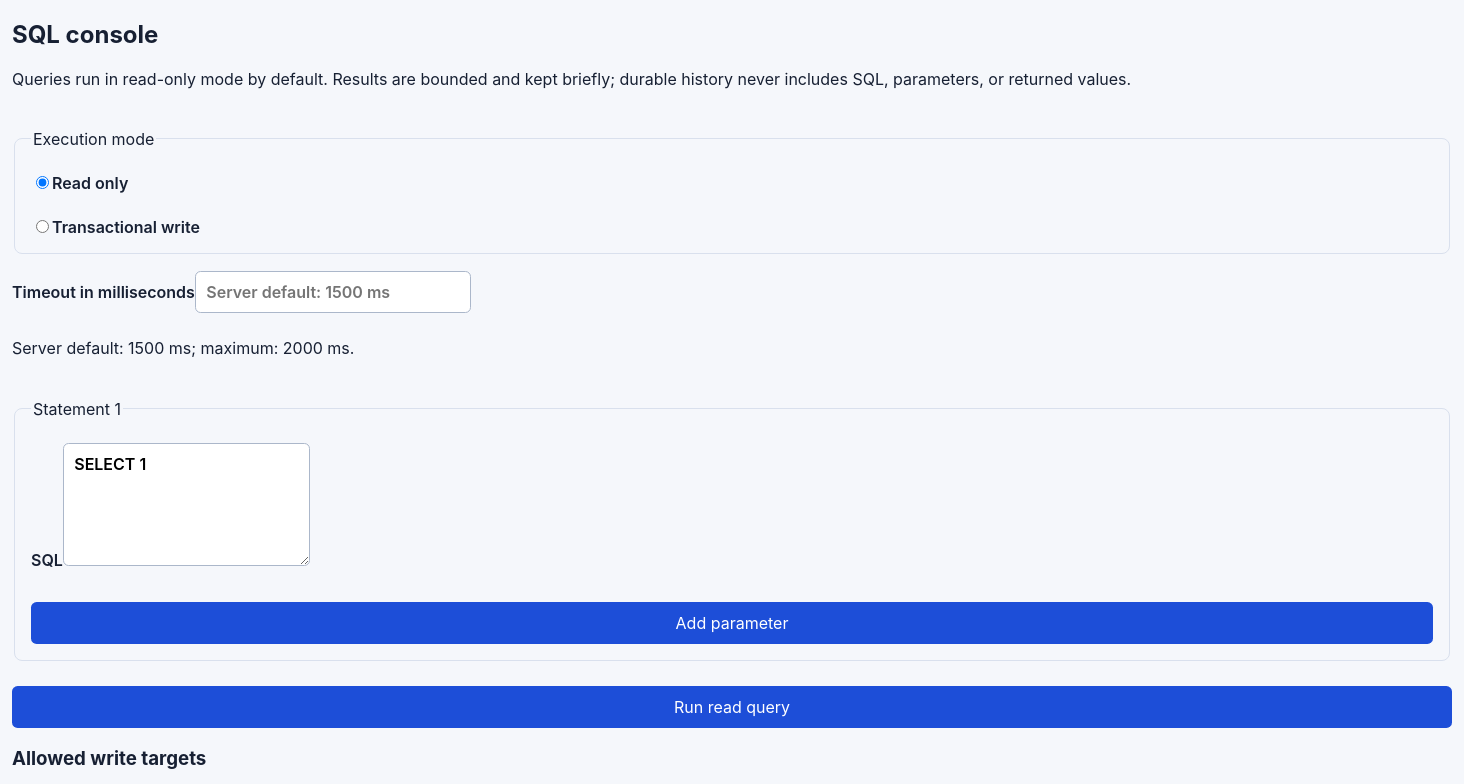
SQL console page › omits an untouched timeout and validates an edited timeout against the server capability
Expected: the text "Server default: 1500 ms; maximum: 2000 ms." is shown, top-left (12, 338), bottom-right (354, 358)
Click the button "Run read query" at (732, 707), box top-left (12, 686), bottom-right (1452, 728)
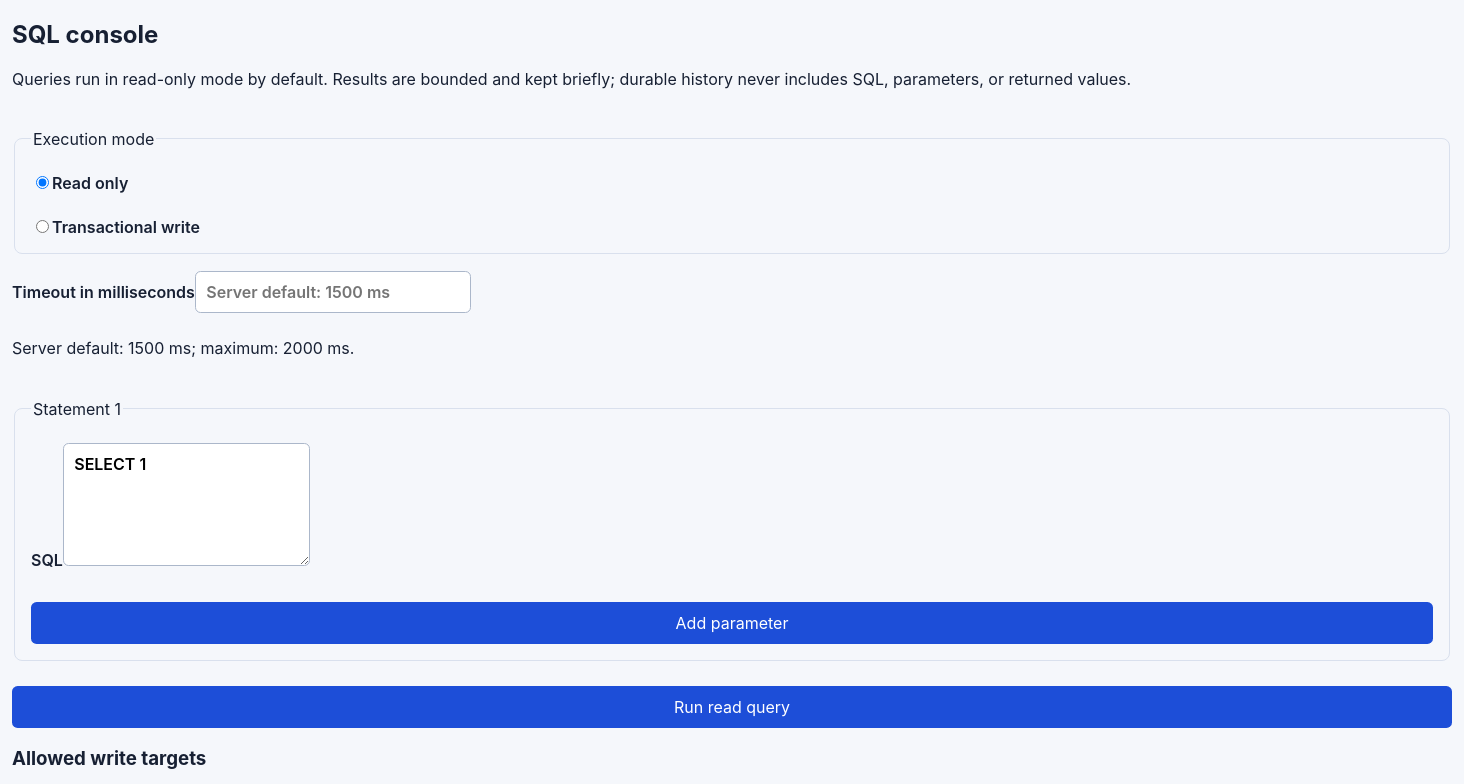
Type "2001" into the field labelled "Timeout in milliseconds" at (333, 292), box top-left (195, 271), bottom-right (471, 313)
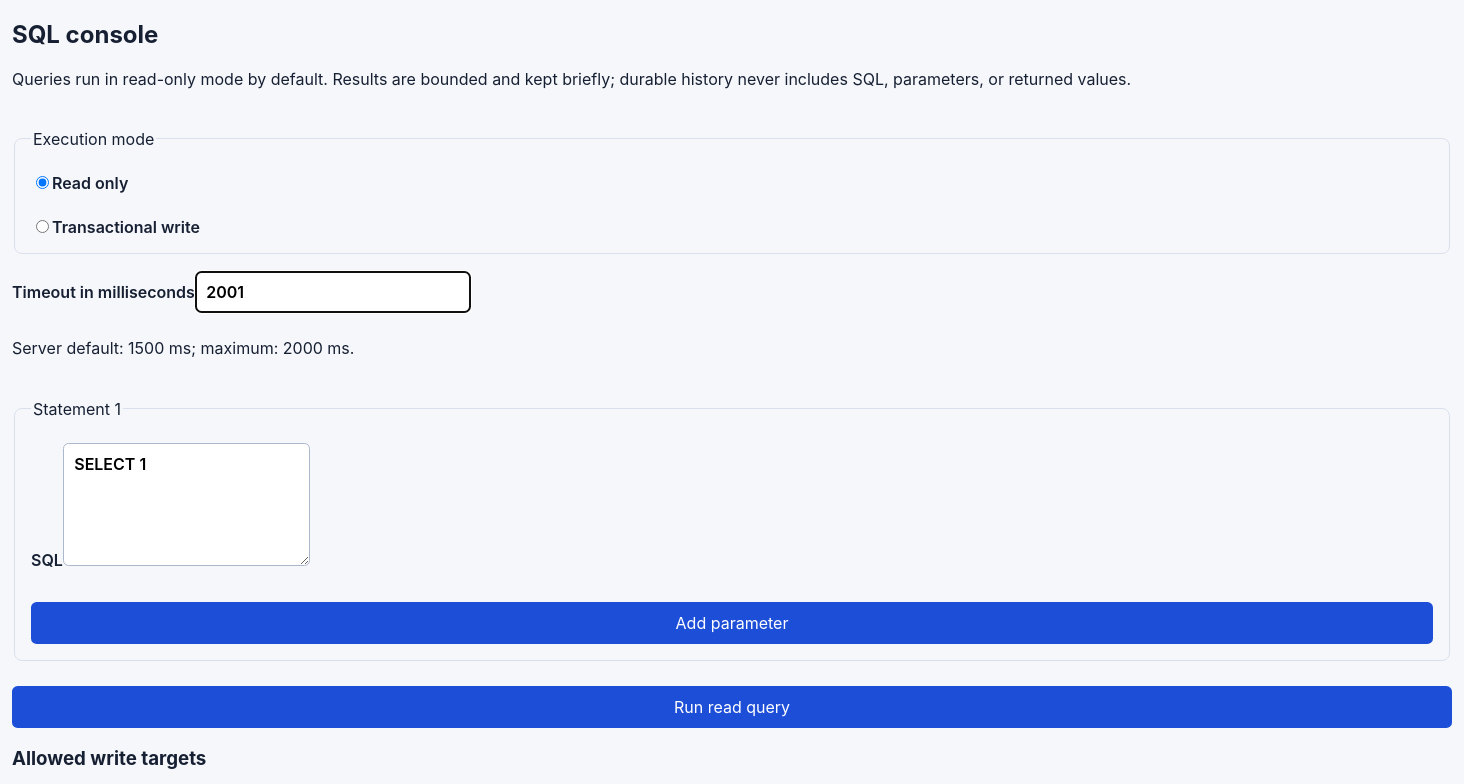
Click the button "Run read query" at (732, 707), box top-left (12, 686), bottom-right (1452, 728)
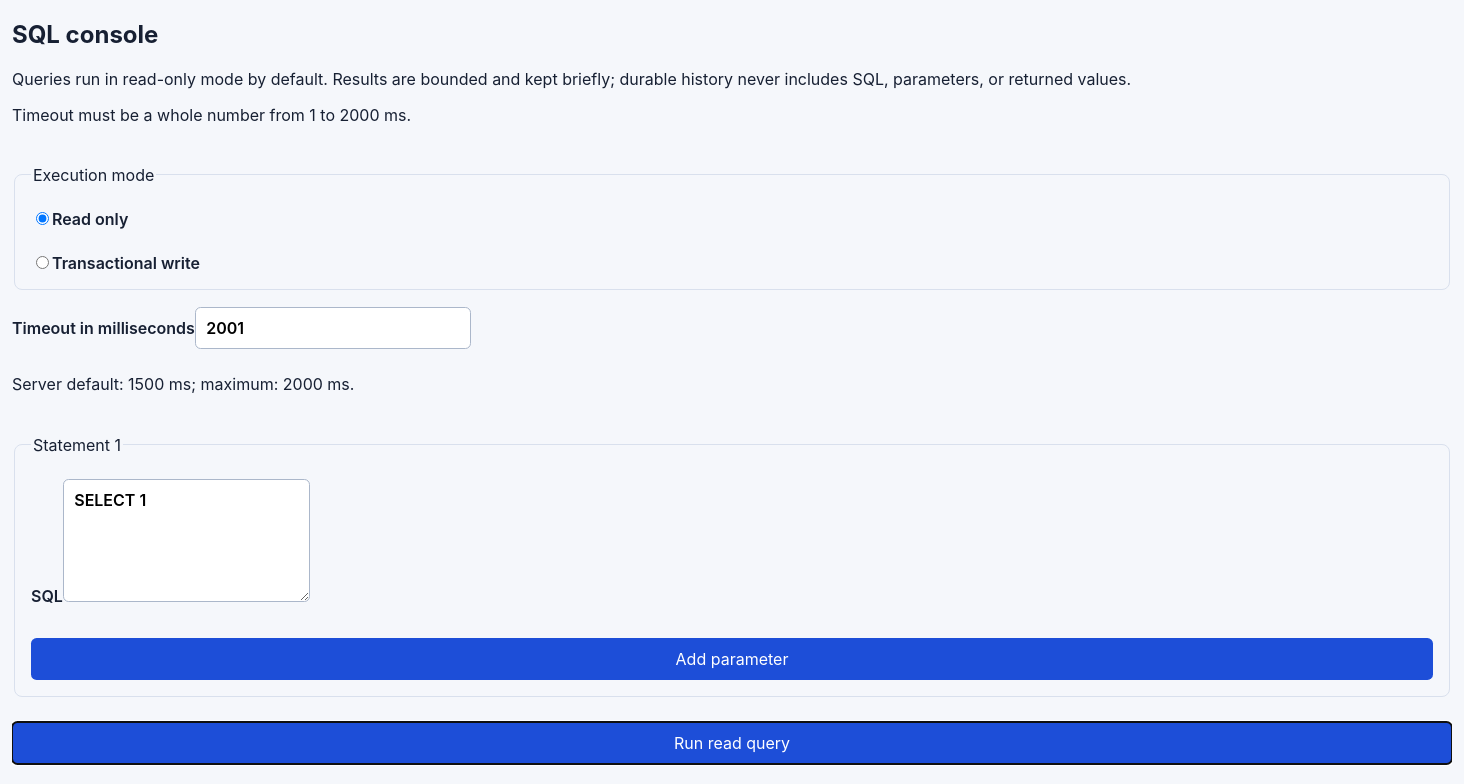
Now the text "Timeout must be a whole number from 1 to 2000 ms." is shown, box top-left (12, 105), bottom-right (411, 125)
